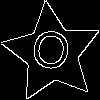O: (27, 28, 74, 81)
